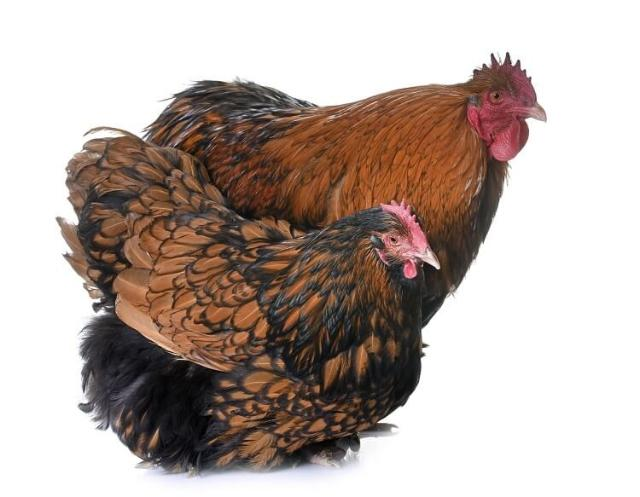Chicken: (55, 128, 444, 479), (144, 50, 547, 322)
